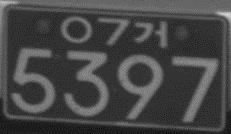0: (58, 15, 93, 44)
3: (63, 50, 109, 118)
5: (10, 47, 56, 114)
7: (170, 54, 219, 123), (96, 16, 129, 46)
9: (117, 53, 164, 120)
거: (133, 19, 167, 48)
